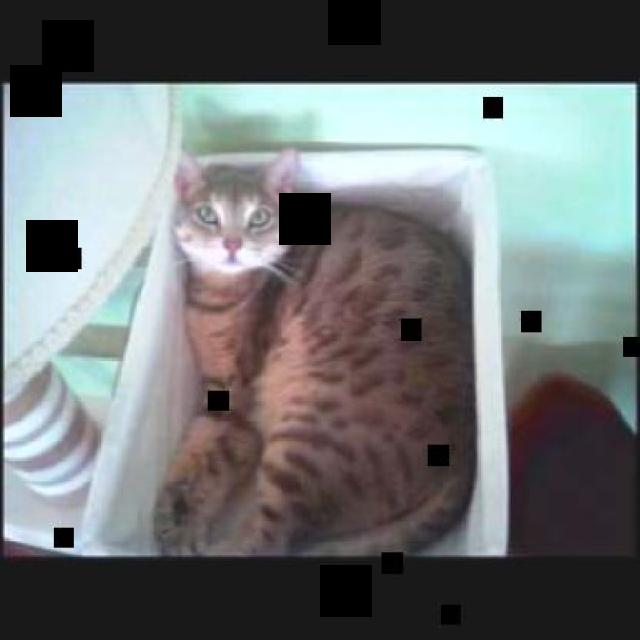unauthorized: (151, 146, 477, 557)
